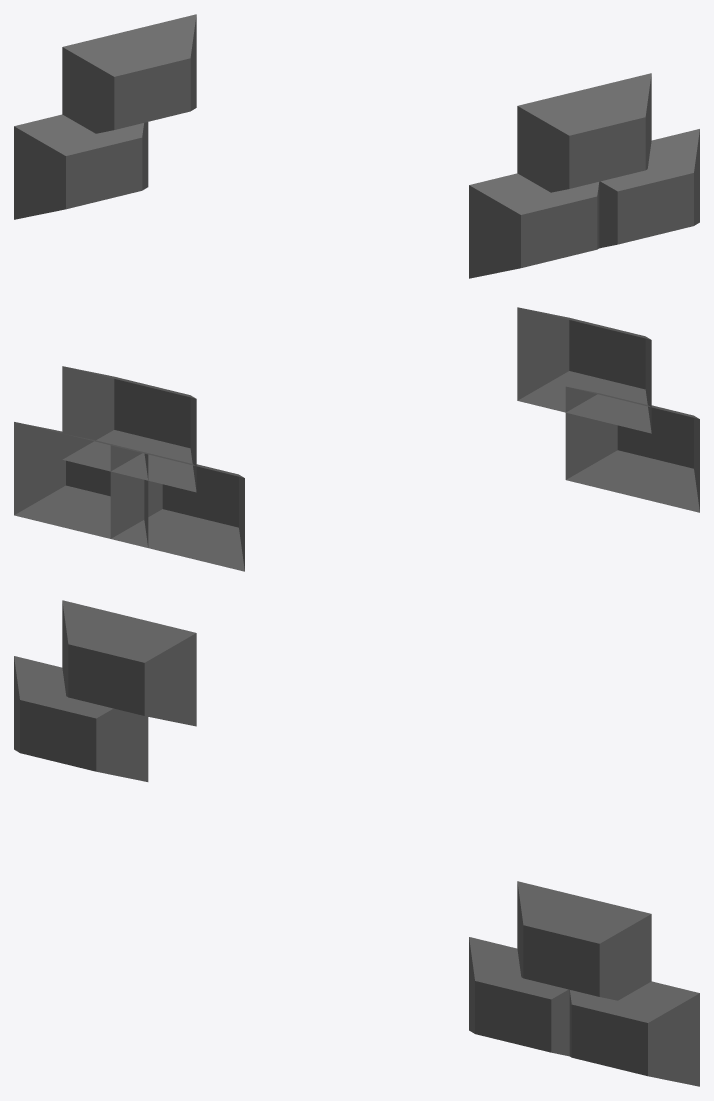
The model's file is Building_Bricks.fbx.
3 renders of one model, top to bottom at view 1: azimuth 30°, elevation 25°; view 2: azimuth 150°, elevation 25°; view 3: azimuth 330°, elevation 25°, orthographic.
Visible parts, largest first — view 1: Building_Church_Blue_001; view 2: Building_Church_Blue_001; view 3: Building_Church_Blue_001.
Boxes of the visible parts, <box> form: Building_Church_Blue_001: <box>14,14,699,278</box>; Building_Church_Blue_001: <box>14,307,699,571</box>; Building_Church_Blue_001: <box>14,600,699,1086</box>.
Bounding box in the file's own units: 0.4256 × 0.1963 × 0.0247.
Materials: 1 (1 with a texture image).
